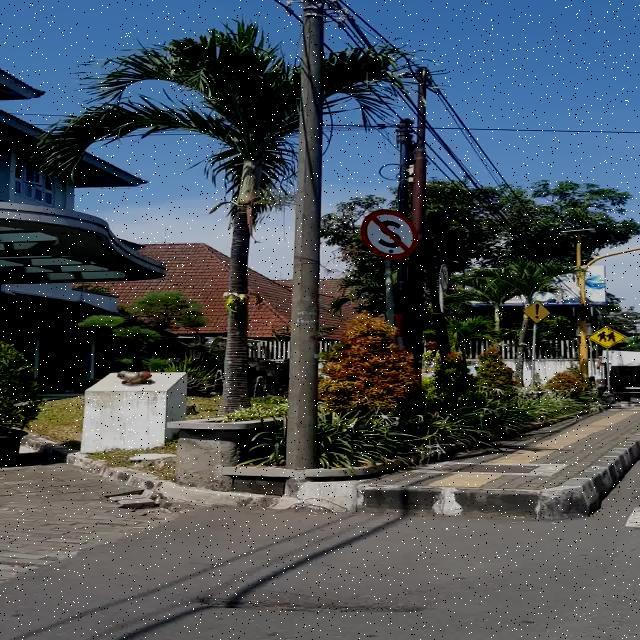Dilarang Berhenti: (360, 209, 417, 259)
